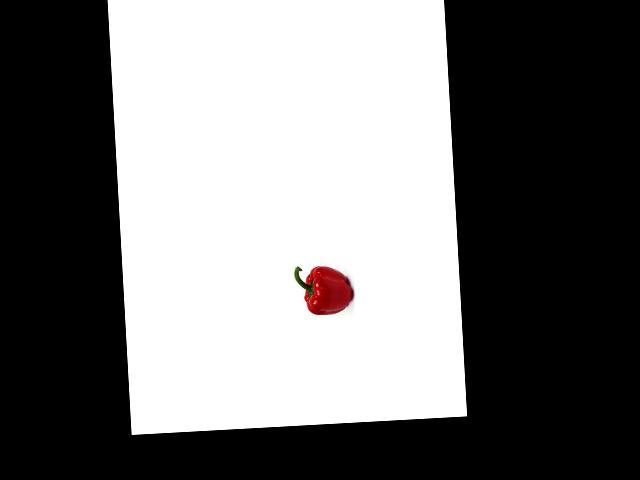bell_pepper: (293, 260, 354, 320)
